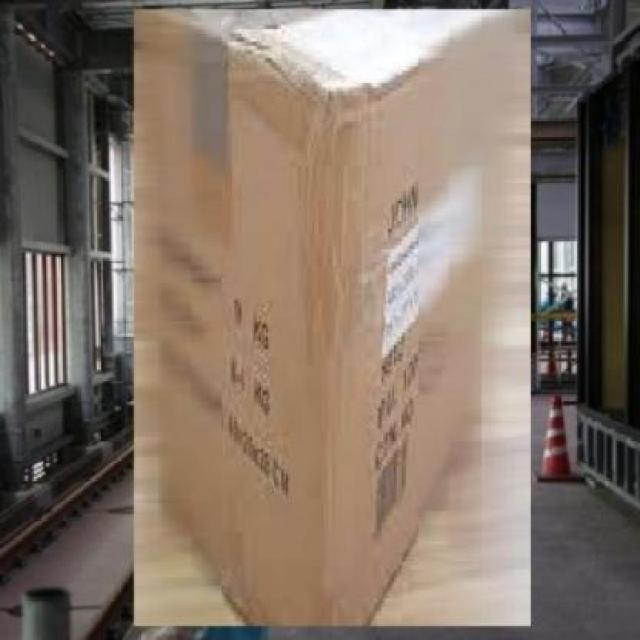box: (130, 0, 536, 637)
